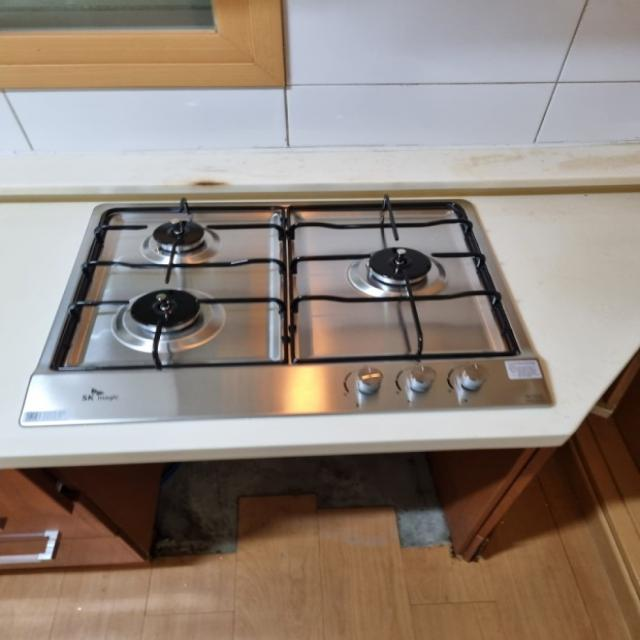knob_ON: (95, 206, 485, 366)
